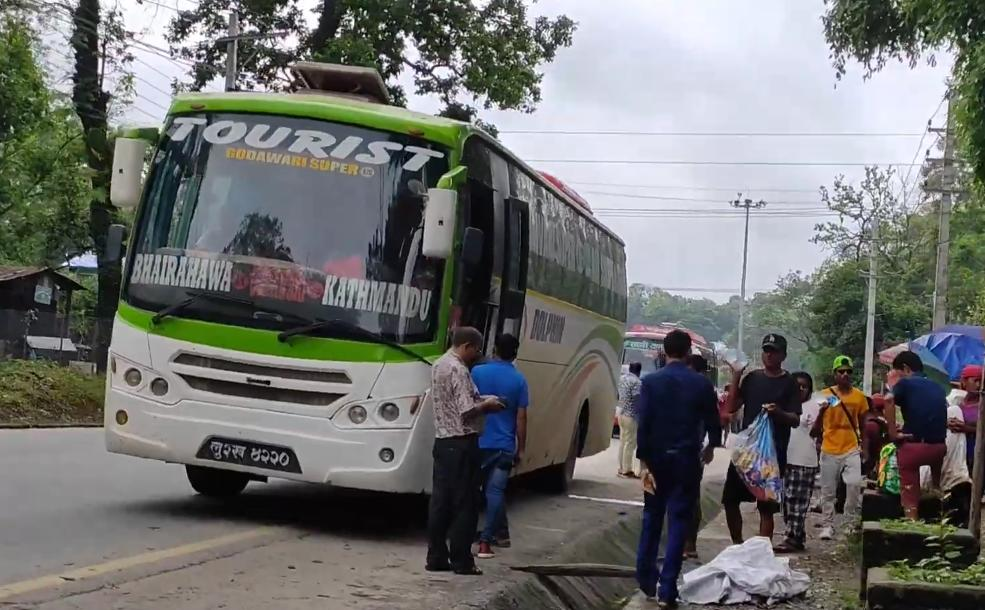bus: (98, 56, 632, 528)
